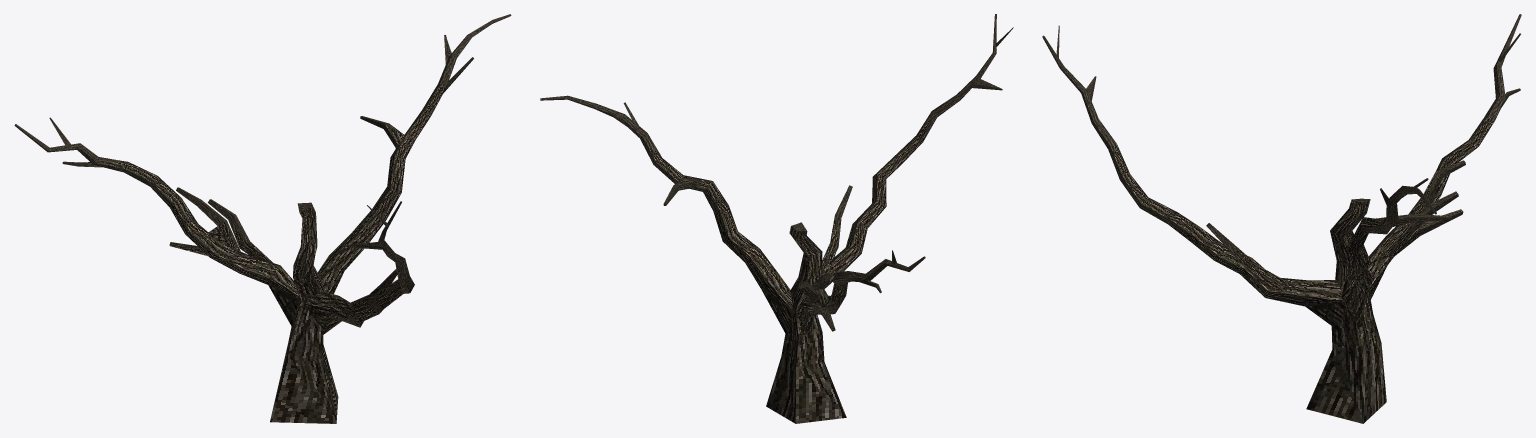
3 renders of one model, left to right at view 1: azimuth 30°, elevation 25°; view 2: azimuth 150°, elevation 25°; view 3: azimuth 270°, elevation 25°, orthographic. The views are drawn at different scales.
Parts seen in each view (by area): view 1: DeadTreeCreator1; view 2: DeadTreeCreator1; view 3: DeadTreeCreator1.
Part boxes in pixels (x1,y1,x2,y2): DeadTreeCreator1: (14,14,511,423); DeadTreeCreator1: (540,14,1013,423); DeadTreeCreator1: (1042,14,1521,423).
Bounding box in the file's own units: 16.62 × 11.55 × 14.69.
Materials: 1 (1 with a texture image).
